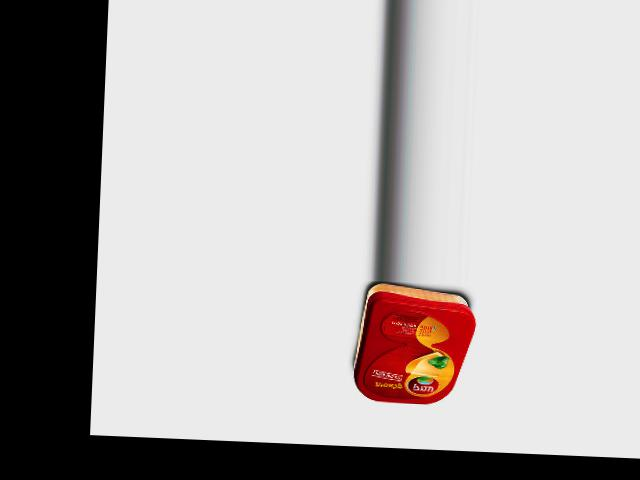cheese: (352, 282, 477, 406)
